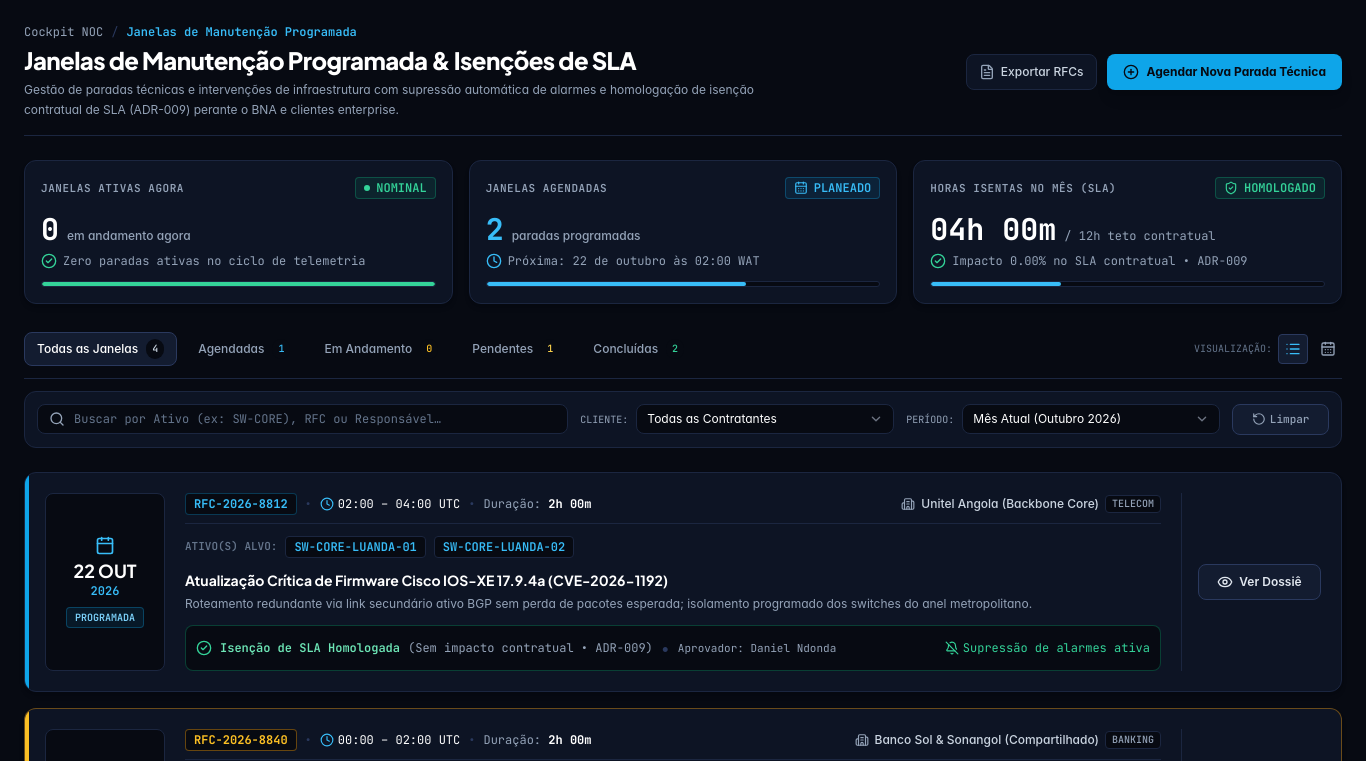
it: Gestão de Janelas de Manutenção & SLA (Issue #218) › Painel de Janelas de Manutenção (/maintenance) › deve alternar para a visualização em Linha do Tempo Gantt 24h
The width and height of the screenshot is (1366, 761).
Check: the text "RFC-2026-8812" is shown, box [185,492,297,514]
Step 1. Click the button titled "Exibir Linha do Tempo Gantt" → (1328, 349), box [1314,335,1342,363]
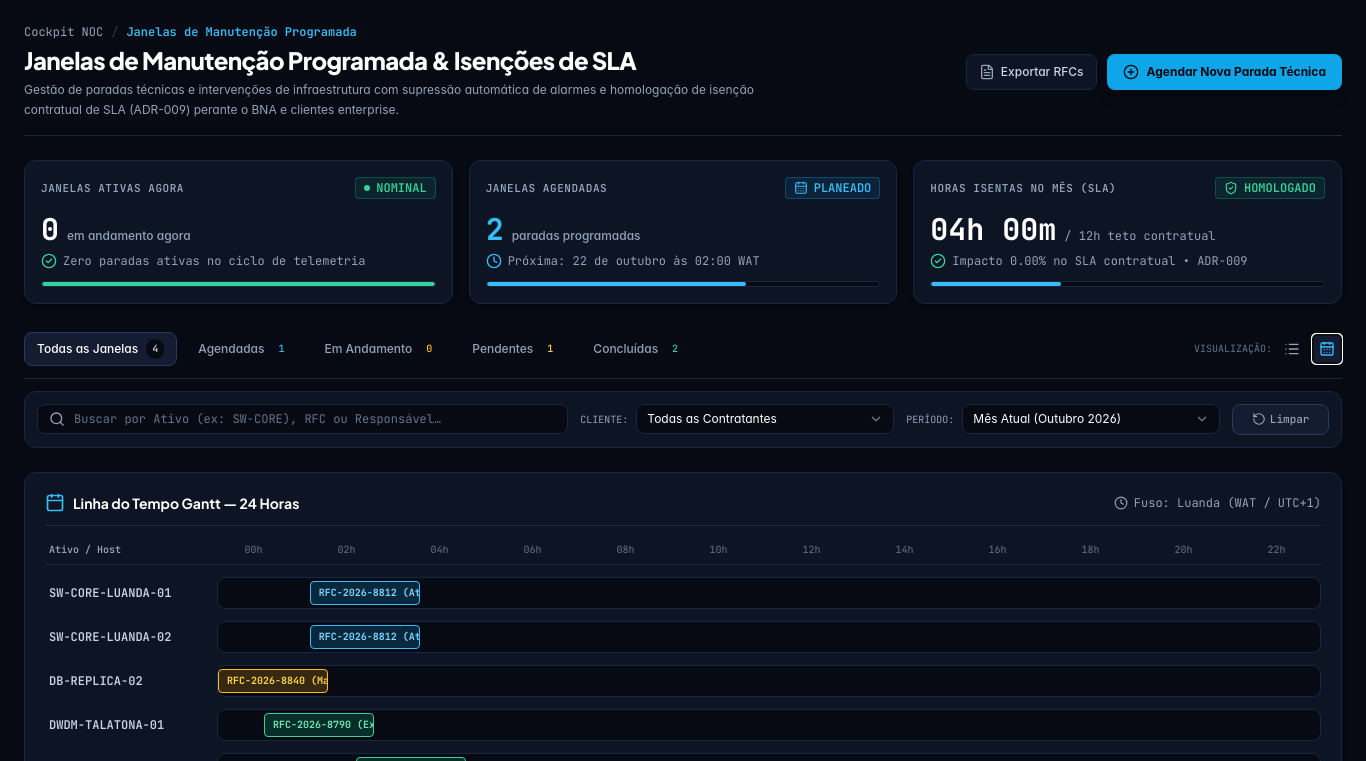
Check: the heading "Linha do Tempo Gantt — 24 Horas" is shown, box [73,492,299,512]
